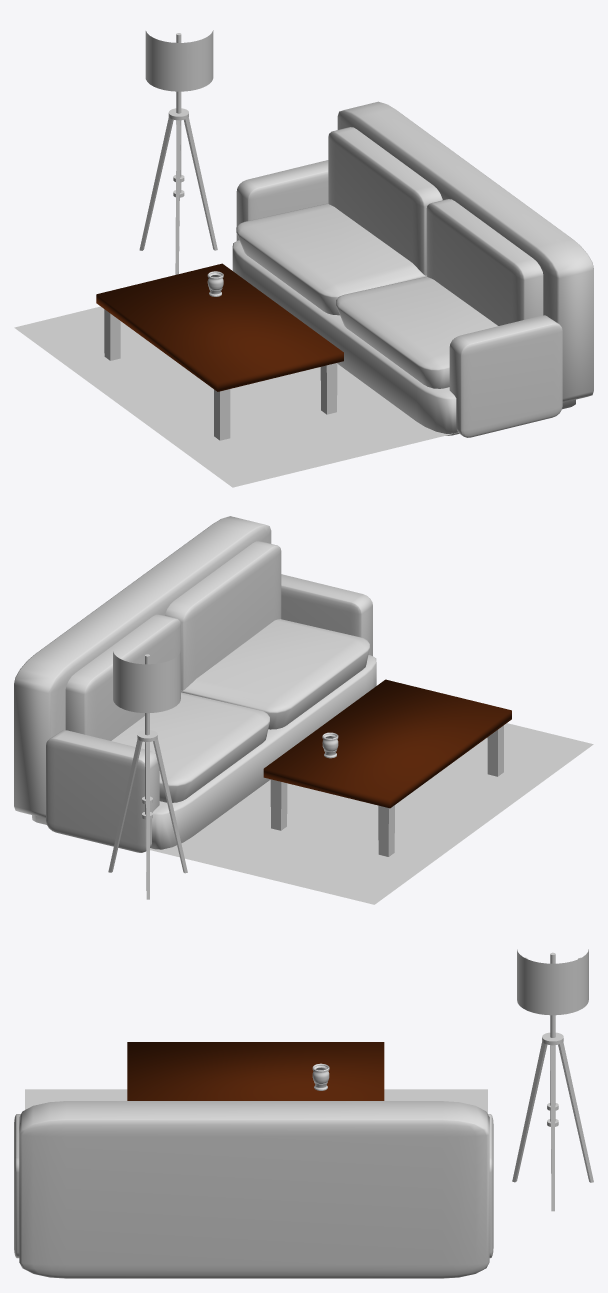
The model's file is asset.glb.
3 views of the same model, one above another, from view 1: azimuth 30°, elevation 25°; view 2: azimuth 150°, elevation 25°; view 3: azimuth 270°, elevation 25° (orthographic). The views are drawn at different scales.
Parts seen in each view (by area): view 1: Plane.001, Cube.024, Roundcube.004, Roundcube.003, Roundcube, Roundcube.007, Roundcube.001, Roundcube.006, Roundcube.005, Roundcube.002, Cylinder.004, Cube.008 (+5 smaller); view 2: Plane.001, Cube.024, Roundcube.004, Roundcube.001, Roundcube.002, Roundcube.007, Roundcube, Roundcube.005, Roundcube.006, Roundcube.003, Cylinder.004, Cube.009 (+5 smaller); view 3: Roundcube.004, Cube.024, Cylinder.004, Plane.001, Roundcube.003, Cube.001, Cube.002, Cube.005, Roundcube.002.
Boxes of the visible parts, <box> form: Plane.001: <box>14,306,457,487</box>; Cube.024: <box>96,263,343,391</box>; Roundcube.004: <box>337,101,593,402</box>; Roundcube.003: <box>449,315,562,437</box>; Roundcube: <box>236,203,426,315</box>; Roundcube.007: <box>426,199,543,325</box>; Roundcube.001: <box>336,276,498,388</box>; Roundcube.006: <box>328,127,442,275</box>; Roundcube.005: <box>232,240,575,435</box>; Roundcube.002: <box>236,160,328,240</box>; Cylinder.004: <box>145,30,213,91</box>; Cube.008: <box>214,389,230,440</box>; Plane.001: <box>150,723,593,904</box>; Cube.024: <box>263,679,511,808</box>; Roundcube.004: <box>14,516,271,817</box>; Roundcube.001: <box>181,619,369,729</box>; Roundcube.002: <box>46,730,159,852</box>; Roundcube.007: <box>165,541,281,690</box>; Roundcube: <box>111,692,269,802</box>; Roundcube.005: <box>32,655,376,849</box>; Roundcube.006: <box>65,614,180,740</box>; Roundcube.003: <box>281,574,372,655</box>; Cylinder.004: <box>113,651,180,713</box>; Cube.009: <box>270,779,287,830</box>; Roundcube.004: <box>19,1101,489,1278</box>; Cube.024: <box>127,1042,384,1100</box>; Cylinder.004: <box>517,949,588,1015</box>; Plane.001: <box>25,1089,487,1113</box>; Roundcube.003: <box>14,1114,20,1258</box>; Cube.001: <box>558,1042,593,1182</box>; Cube.002: <box>512,1041,547,1182</box>; Cube.005: <box>550,1045,555,1211</box>; Roundcube.002: <box>488,1114,493,1258</box>.
Size of the model in its own units: 2.82 by 1.75 by 3.69.
